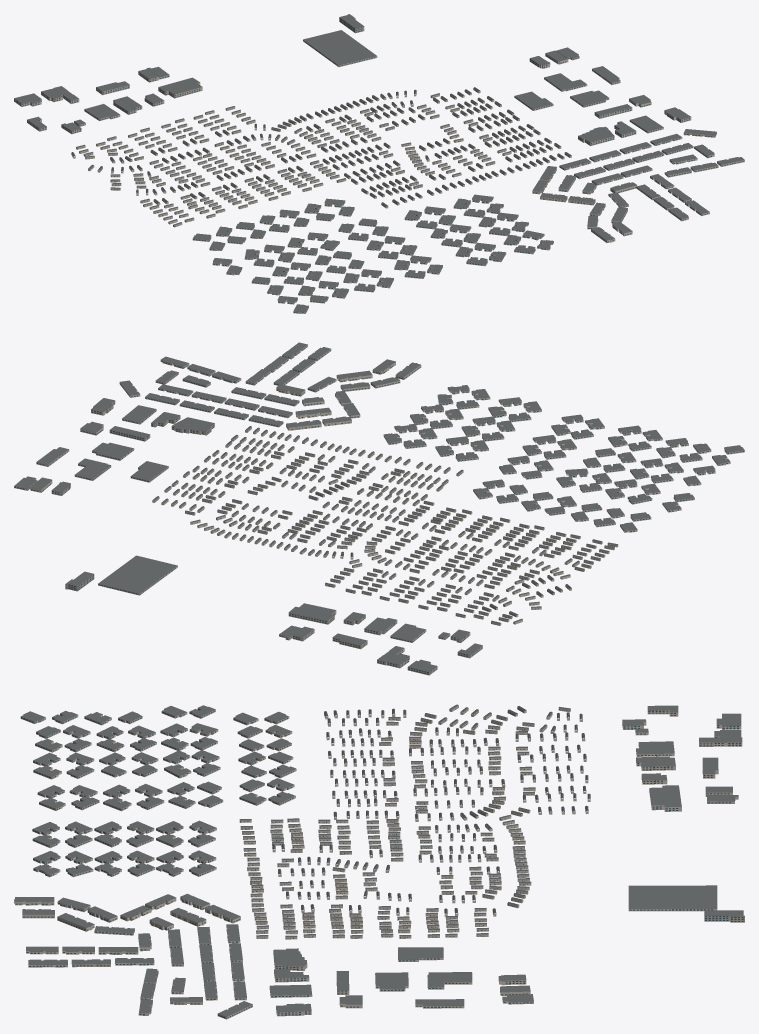
3 renders of one model, top to bottom at view 1: azimuth 30°, elevation 25°; view 2: azimuth 150°, elevation 25°; view 3: azimuth 270°, elevation 25°, orthographic. The views are drawn at different scales.
Parts seen in each view (by area): view 1: Buildings (3, 3) Roof membrane, Buildings (3, 3) Masonry brick, Buildings (3, 3) Roof shingles, Buildings (3, 3) Architectural tinted glass, Buildings (3, 3) House siding, Buildings (3, 3) Metal coping; view 2: Buildings (3, 3) Roof membrane, Buildings (3, 3) Masonry brick, Buildings (3, 3) Roof shingles, Buildings (3, 3) Architectural tinted glass, Buildings (3, 3) House siding, Buildings (3, 3) Metal coping, Buildings (3, 3) Entry door; view 3: Buildings (3, 3) Roof membrane, Buildings (3, 3) Masonry brick, Buildings (3, 3) Roof shingles, Buildings (3, 3) Architectural tinted glass, Buildings (3, 3) House siding, Buildings (3, 3) Metal coping, Buildings (3, 3) Window trim.
Part boxes in pixels (x1=…): Buildings (3, 3) Roof membrane: x1=14, y1=14, x2=744, y2=311; Buildings (3, 3) Masonry brick: x1=14, y1=40, x2=744, y2=313; Buildings (3, 3) Roof shingles: x1=71, y1=87, x2=571, y2=225; Buildings (3, 3) Architectural tinted glass: x1=14, y1=18, x2=743, y2=313; Buildings (3, 3) House siding: x1=83, y1=93, x2=561, y2=227; Buildings (3, 3) Metal coping: x1=25, y1=14, x2=734, y2=312; Buildings (3, 3) Roof membrane: x1=14, y1=342, x2=744, y2=671; Buildings (3, 3) Masonry brick: x1=14, y1=345, x2=744, y2=675; Buildings (3, 3) Roof shingles: x1=153, y1=426, x2=617, y2=623; Buildings (3, 3) Architectural tinted glass: x1=14, y1=346, x2=743, y2=674; Buildings (3, 3) House siding: x1=179, y1=432, x2=618, y2=619; Buildings (3, 3) Metal coping: x1=17, y1=344, x2=744, y2=669; Buildings (3, 3) Entry door: x1=157, y1=434, x2=612, y2=624; Buildings (3, 3) Roof membrane: x1=14, y1=705, x2=744, y2=1016; Buildings (3, 3) Masonry brick: x1=14, y1=707, x2=742, y2=1019; Buildings (3, 3) Roof shingles: x1=239, y1=704, x2=590, y2=936; Buildings (3, 3) Architectural tinted glass: x1=15, y1=708, x2=743, y2=1018; Buildings (3, 3) House siding: x1=240, y1=705, x2=586, y2=939; Buildings (3, 3) Metal coping: x1=22, y1=705, x2=741, y2=1016; Buildings (3, 3) Window trim: x1=244, y1=707, x2=566, y2=938.
Bounding box in the file's own units: 1037 × 12.31 × 1030.
